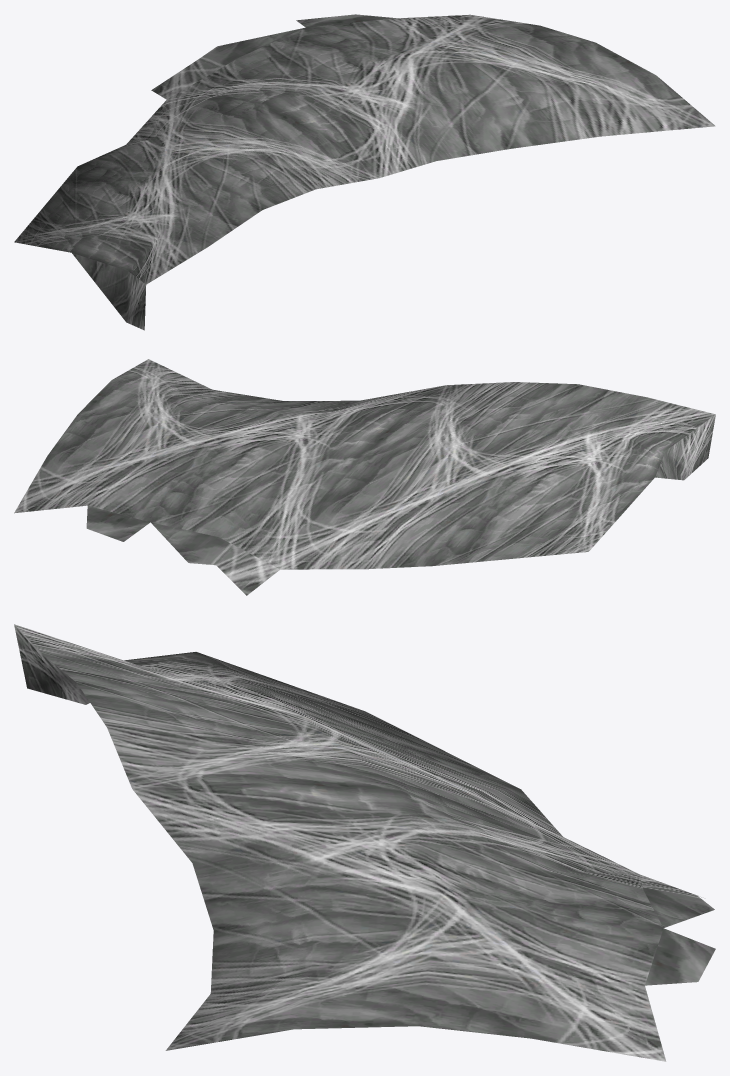
The model's file is SWORDLIGHT20_PS-AREA01_42.fbx.
The picture shows the model from 3 angles, top to bottom: view 1: azimuth 30°, elevation 25°; view 2: azimuth 150°, elevation 25°; view 3: azimuth 270°, elevation 25°; orthographic projection. The views are drawn at different scales.
Parts seen in each view (by area): view 1: SWORDLIGHT20_PS-AREA01_42; view 2: SWORDLIGHT20_PS-AREA01_42; view 3: SWORDLIGHT20_PS-AREA01_42.
Boxes of the visible parts, x1,y1,x2,y2 form: SWORDLIGHT20_PS-AREA01_42: (14, 14, 715, 330); SWORDLIGHT20_PS-AREA01_42: (14, 359, 715, 595); SWORDLIGHT20_PS-AREA01_42: (14, 624, 715, 1061).
Bounding box in the file's own units: 119855 × 19120 × 94408.
1 material, 1 textured.
